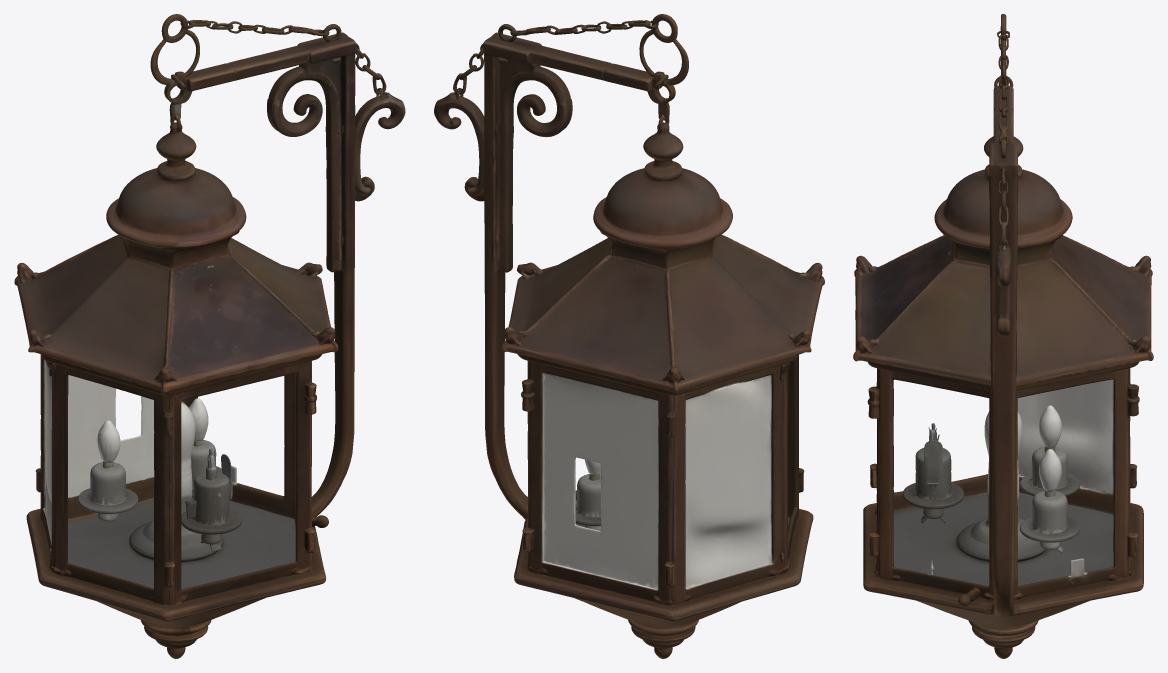
File: lantern.glb
The picture shows the model from 3 angles, left to right: view 1: azimuth 30°, elevation 25°; view 2: azimuth 150°, elevation 25°; view 3: azimuth 270°, elevation 25°; orthographic projection.
Parts seen in each view (by area): view 1: tripo_node_09a9817f-67e5-4208-95df-bd641003d0a7; view 2: tripo_node_09a9817f-67e5-4208-95df-bd641003d0a7; view 3: tripo_node_09a9817f-67e5-4208-95df-bd641003d0a7.
Boxes of the visible parts, x1,y1,x2,y2 form: tripo_node_09a9817f-67e5-4208-95df-bd641003d0a7: (14, 14, 405, 658); tripo_node_09a9817f-67e5-4208-95df-bd641003d0a7: (434, 14, 824, 658); tripo_node_09a9817f-67e5-4208-95df-bd641003d0a7: (853, 14, 1153, 658).
Size of the model in its own units: 0.5999 by 0.98 by 0.416.
1 material, 1 textured.
